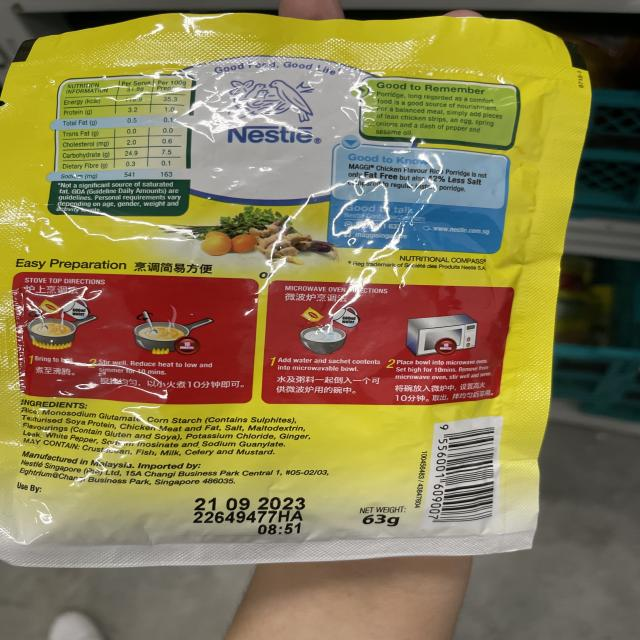object_name: (20, 35, 530, 552)
